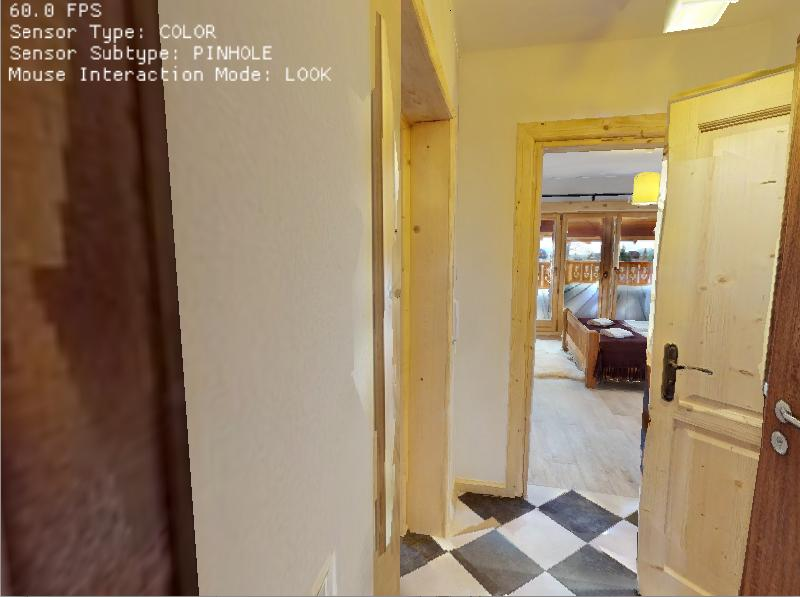door: (627, 72, 800, 597)
door-frame: (505, 94, 671, 496)
